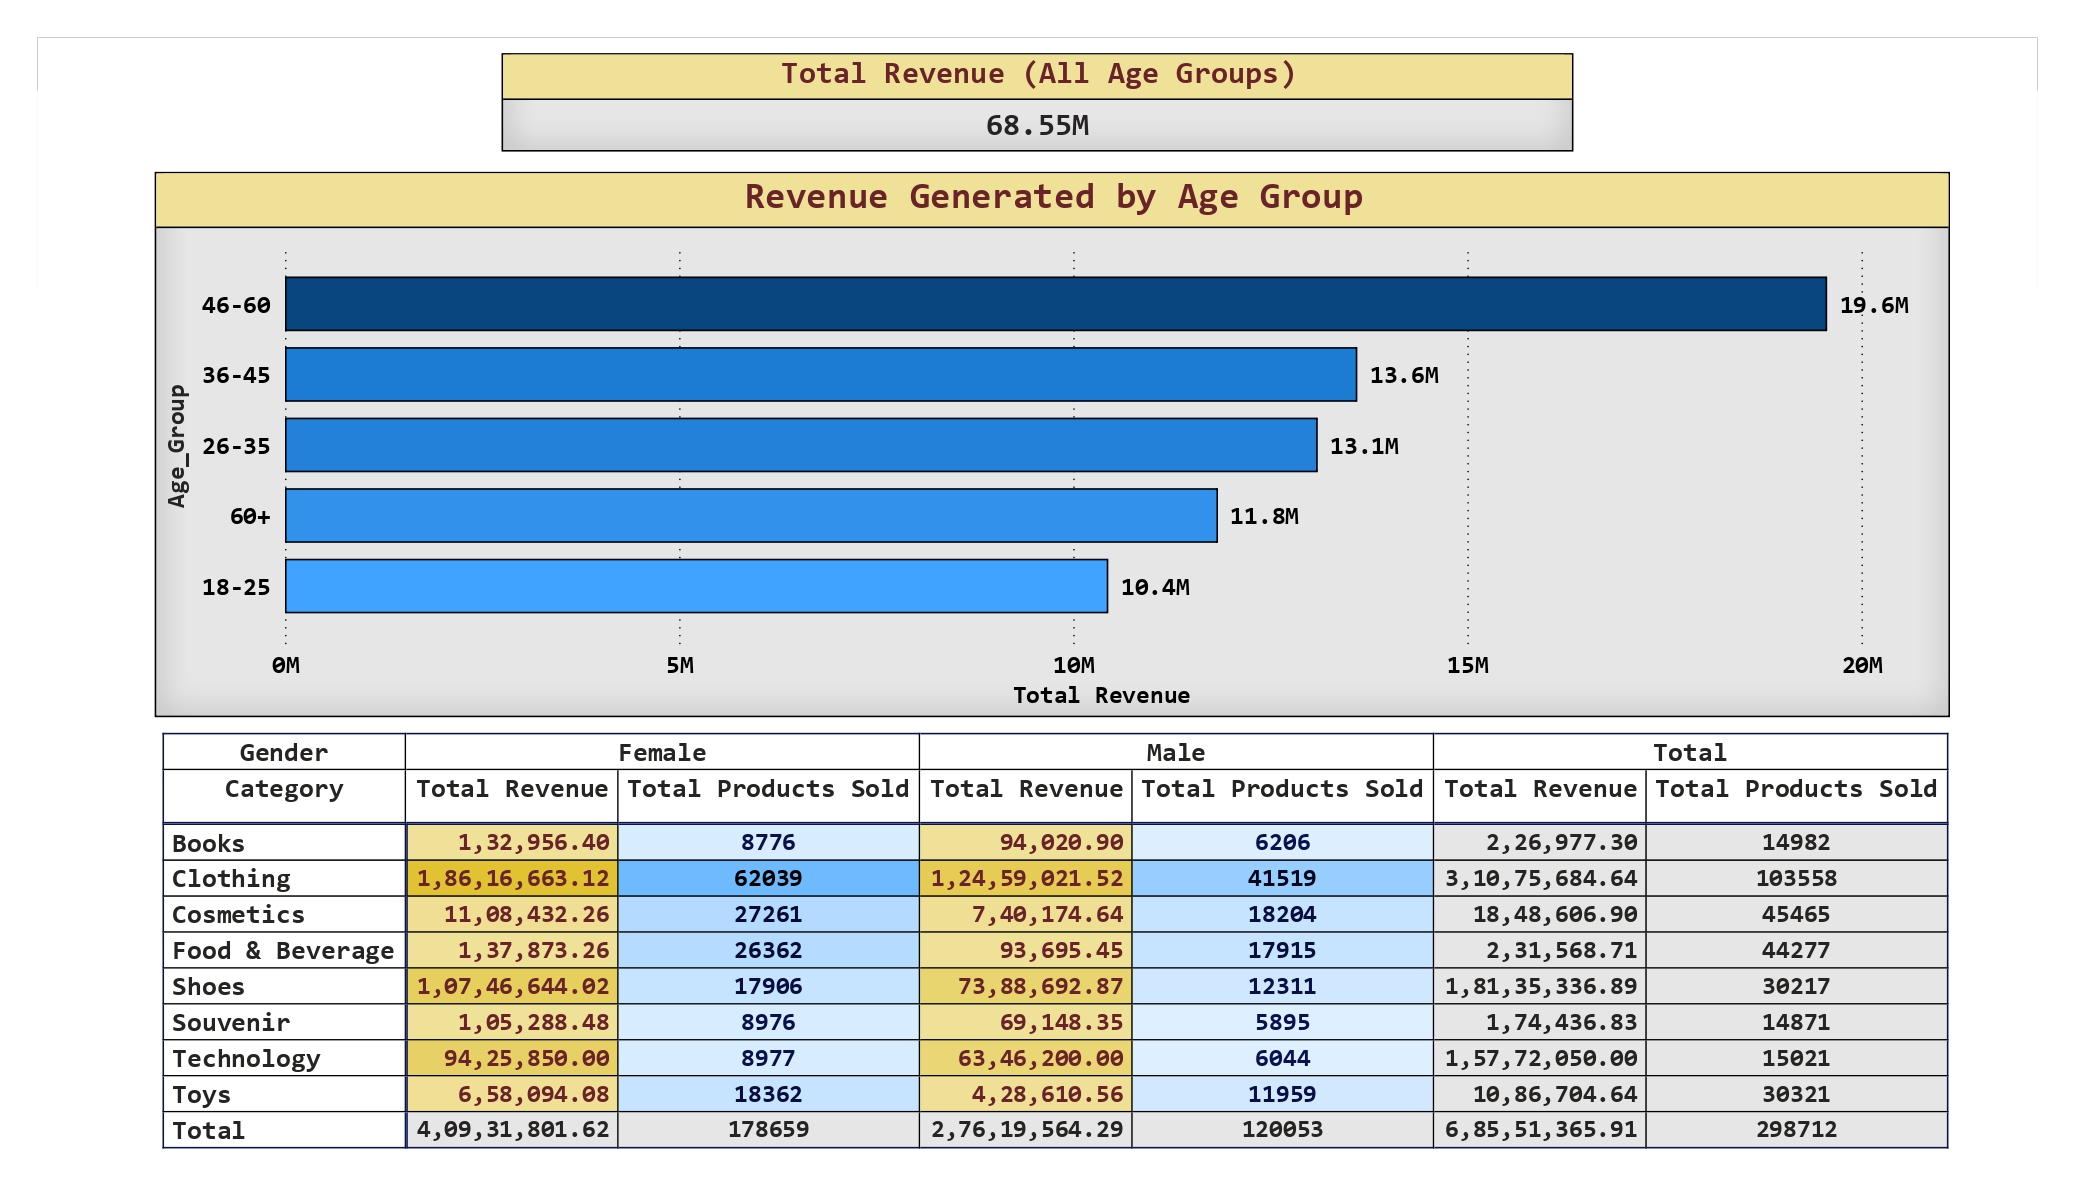

The page's visual inventory and layout, read from the dashboard file:
{"tool":"powerbi","page":{"name":"Category Drill Through - 8","canvas":[1280,720],"ordinal":8},"visuals":[{"type":"clusteredBarChart","title":"Revenue Generated by Age Group","fields":{"Category":["customer.age_group"],"Y":["Sum(customer.revenue)"]},"box":[74.6,85.6,1149.5,349.7],"z":0},{"type":"card","title":"Total Revenue (All Age Groups)","fields":{"Values":["Sum(customer.revenue)"]},"box":[297.1,9.8,686,63.6],"z":1000},{"type":"pivotTable","fields":{"Rows":["customer.category"],"Columns":["customer.gender"],"Values":["Sum(customer.revenue)","Sum(customer.quantity)"]},"box":[74.6,440.2,1160,280],"z":2000}]}

Visuals, with their boxes on the page's 1280x720 design canvas (x1, y1, x2, y2). These are canvas units, not pixel positions in the 2075x1200 screenshot, which may show the page scaled, cropped or inside an application window:
"Revenue Generated by Age Group" clusteredBarChart: bbox=(75, 86, 1224, 435)
"Total Revenue (All Age Groups)" card: bbox=(297, 10, 983, 73)
pivotTable - customer.category x customer.gender: bbox=(75, 440, 1235, 720)
